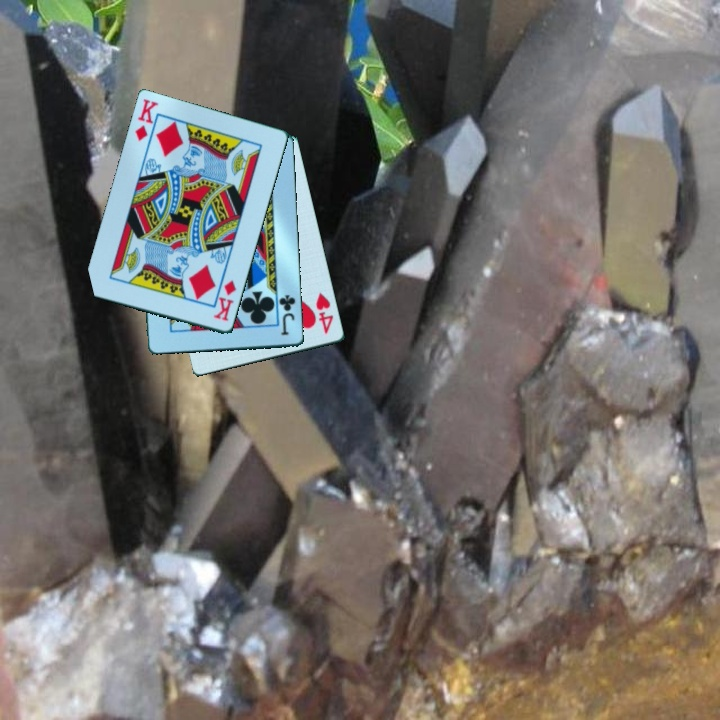4h: (312, 289, 337, 337)
Jc: (276, 292, 299, 338)
Kd: (132, 95, 161, 144), (210, 277, 239, 324)
